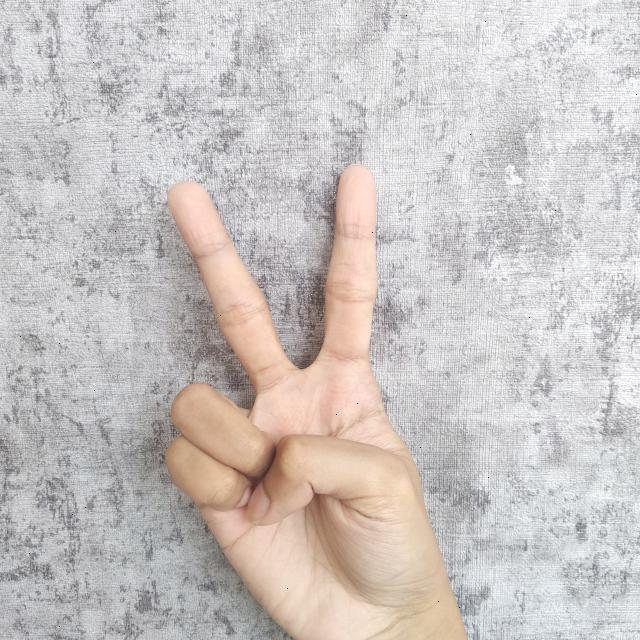V: (149, 155, 468, 640)
